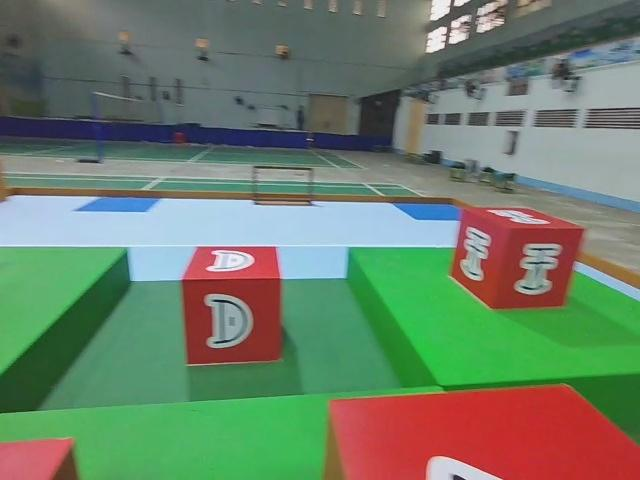R2 Real: (449, 203, 585, 311), (180, 243, 285, 366)
